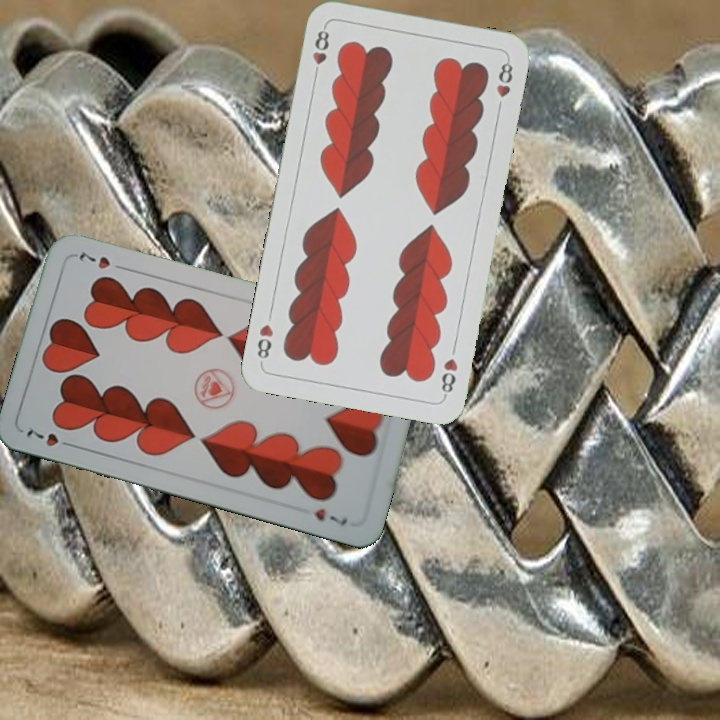H7: (22, 424, 78, 451)
H8: (308, 22, 332, 81), (437, 354, 461, 400)
